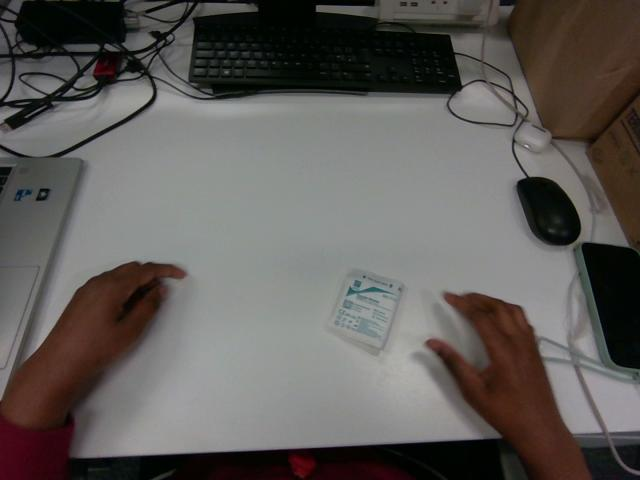gauze: (326, 270, 403, 349)
